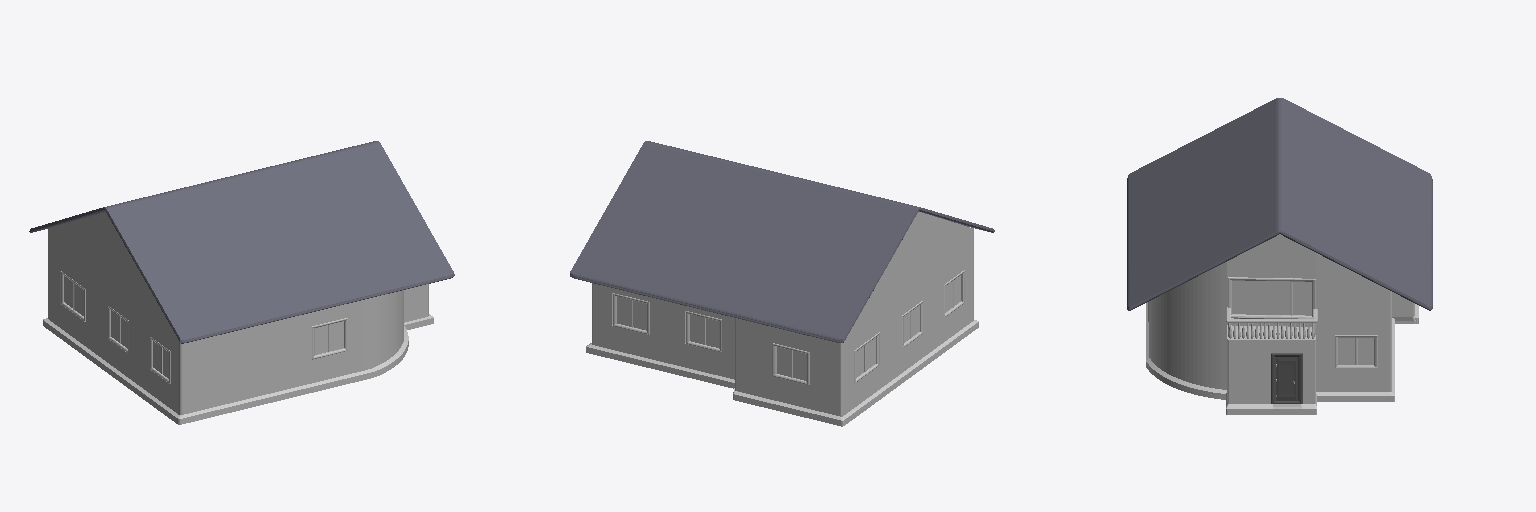
File: house.obj
The picture shows the model from 3 angles: view 1: azimuth 30°, elevation 25°; view 2: azimuth 150°, elevation 25°; view 3: azimuth 270°, elevation 25°; orthographic projection.
Visible parts, largest first — view 1: Cube.009, Cube, Cube.014, Plane; view 2: Cube.009, Cube, Cube.014, Plane.002, Plane.003, Plane.004; view 3: Cube.009, Cube, Cube.014, Plane.008, Cube.013, Cube.010, Plane.001, Sphere, Cube.012, Cube.002.
Part boxes in pixels (x1,y1,x2,y2): Cube.009: (29,141,454,343); Cube: (48,212,428,414); Cube.014: (43,314,433,424); Plane: (315,321,343,354); Cube.009: (570,141,994,342); Cube: (592,212,973,416); Cube.014: (586,320,978,426); Plane.002: (617,296,646,330); Plane.003: (690,314,718,347); Plane.004: (777,347,805,380); Cube.009: (1127,98,1432,310); Cube: (1149,234,1414,403); Cube.014: (1146,302,1418,414); Plane.008: (1232,281,1311,315); Cube.013: (1276,357,1297,400); Cube.010: (1228,277,1315,318); Plane.001: (1338,338,1373,364); Sphere: (1228,323,1315,338); Cube.012: (1271,353,1302,403); Cube.002: (1335,335,1377,367).
Size of the model in its own units: 9.42 by 5.05 by 8.25.